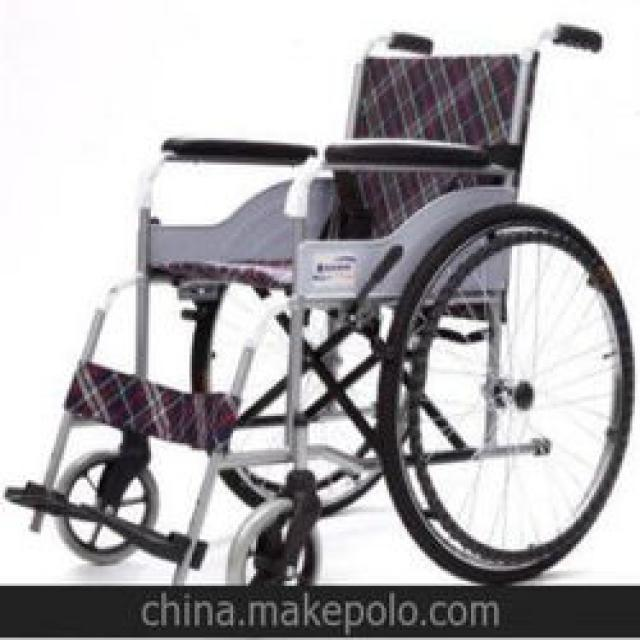wheelchair: (0, 9, 627, 574)
